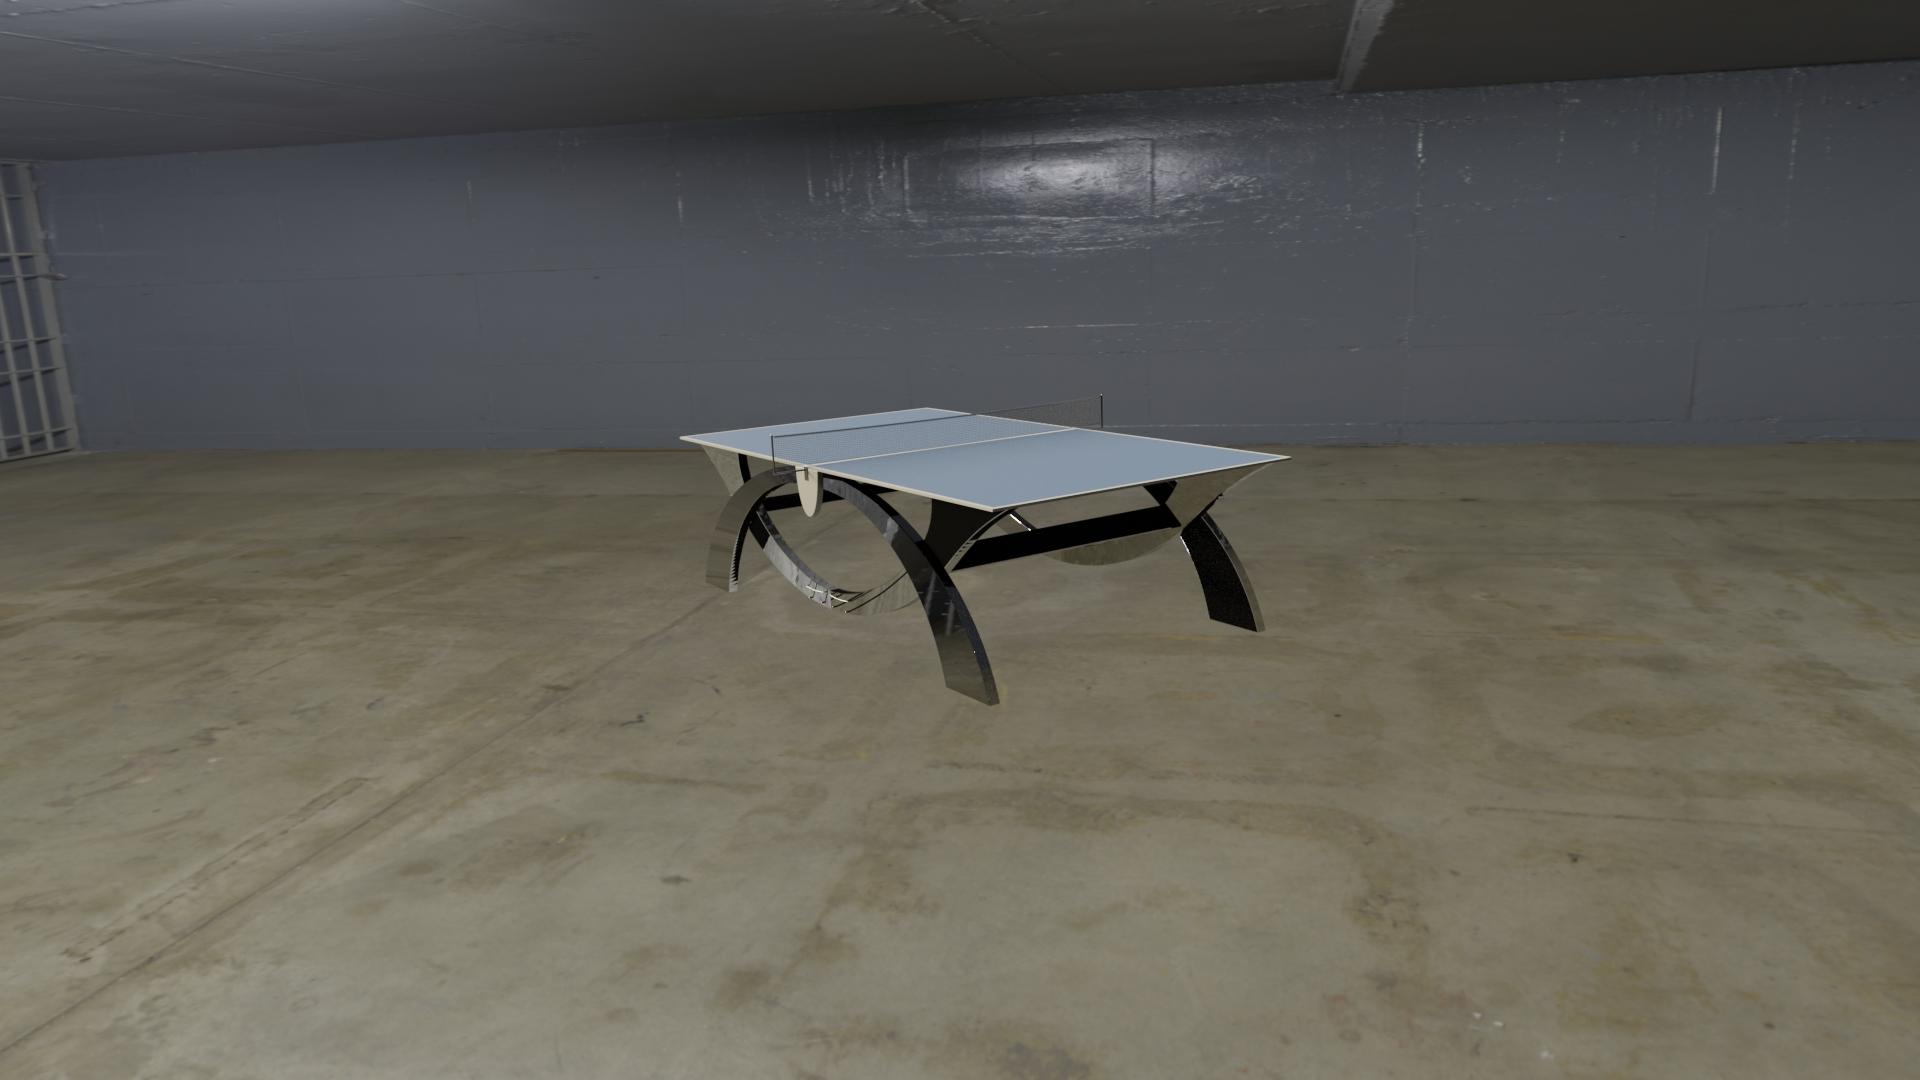table: (684, 409, 1284, 508)
